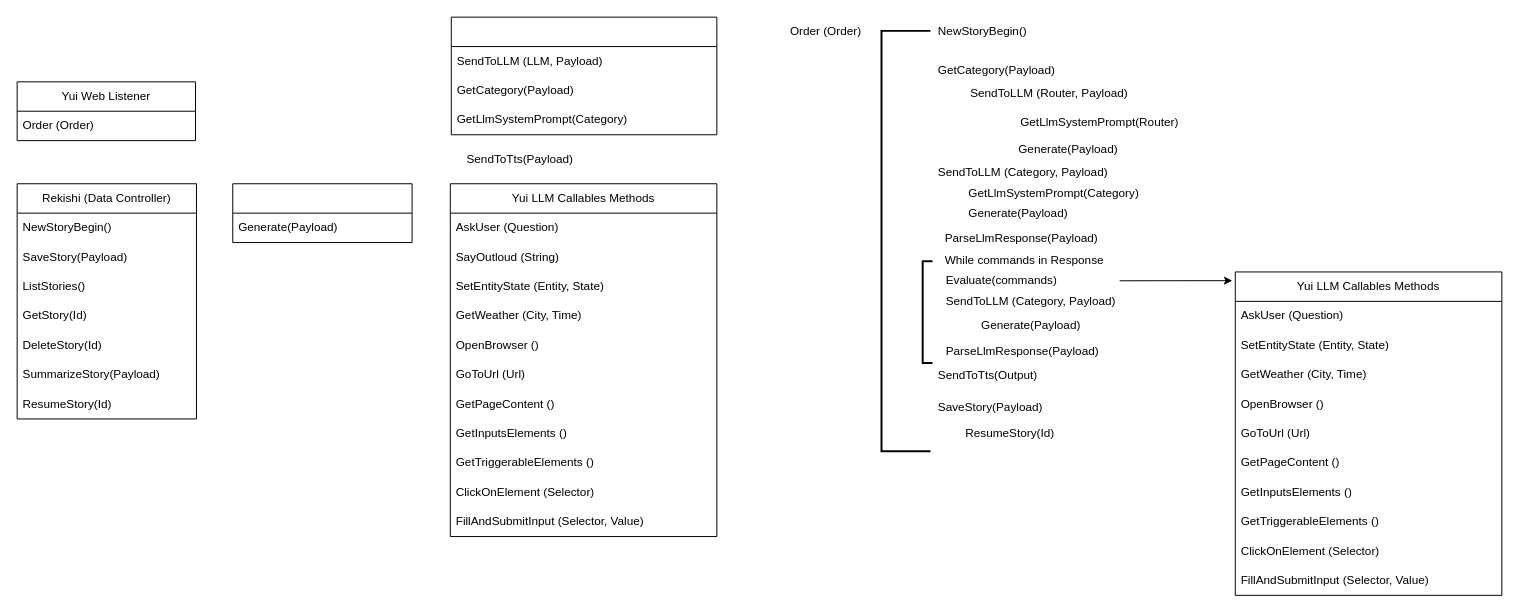
The diagram is 1519 pixels wide and 613 high, and some of its shapes have lost their labels. The box of each missing label's shape, as (x1, y1, x2, y2) in pixels:
Taiwa (LLM Controller): (232, 183, 412, 243)
Yui Private Methods: (450, 16, 717, 135)
